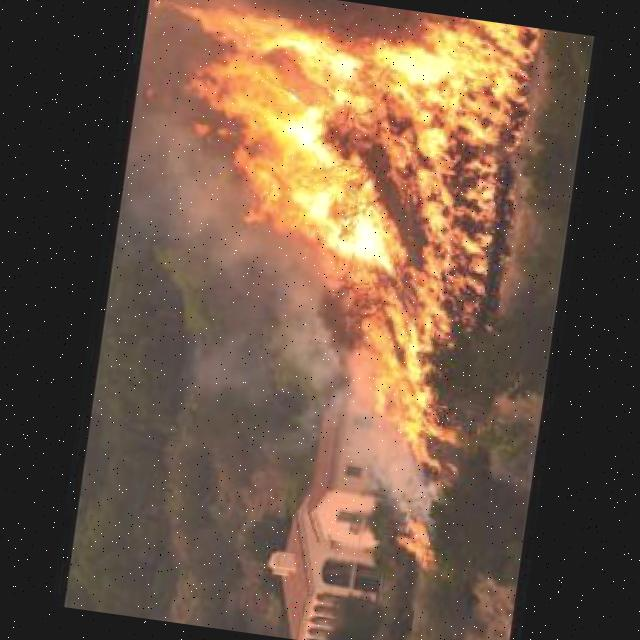fire: (105, 0, 540, 485)
